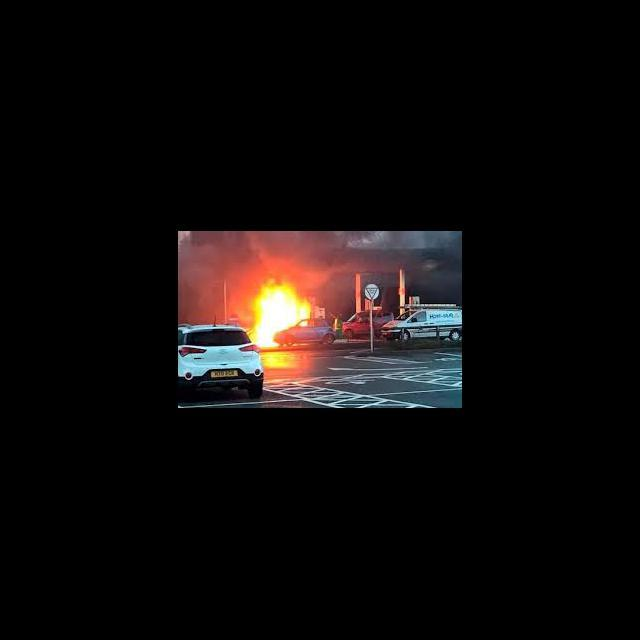Fire: (248, 276, 314, 354)
Smoke: (178, 234, 246, 320), (248, 232, 339, 274)
